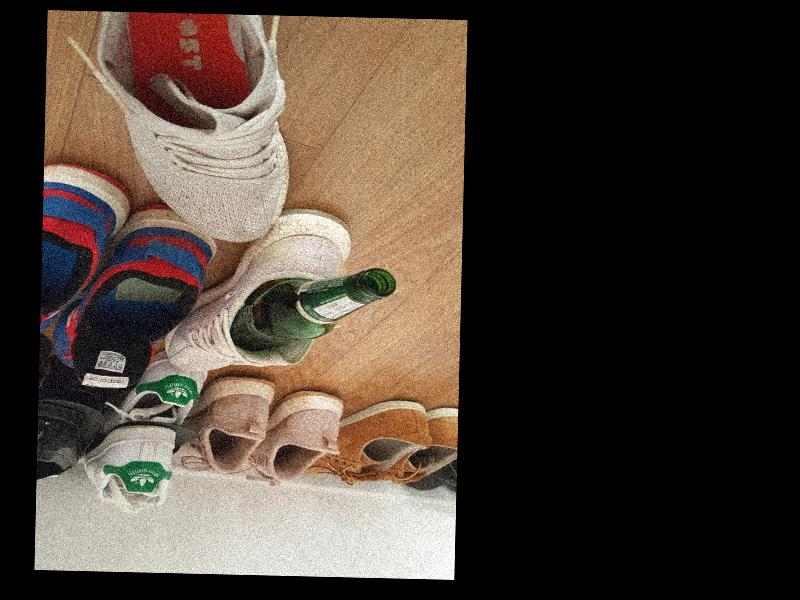Beer: (228, 264, 396, 357)
